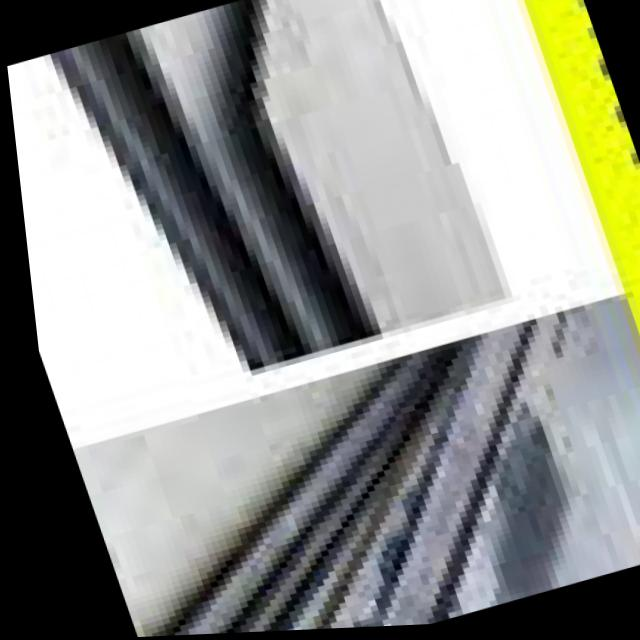metal-plates: (46, 1, 493, 370), (169, 309, 640, 637)
